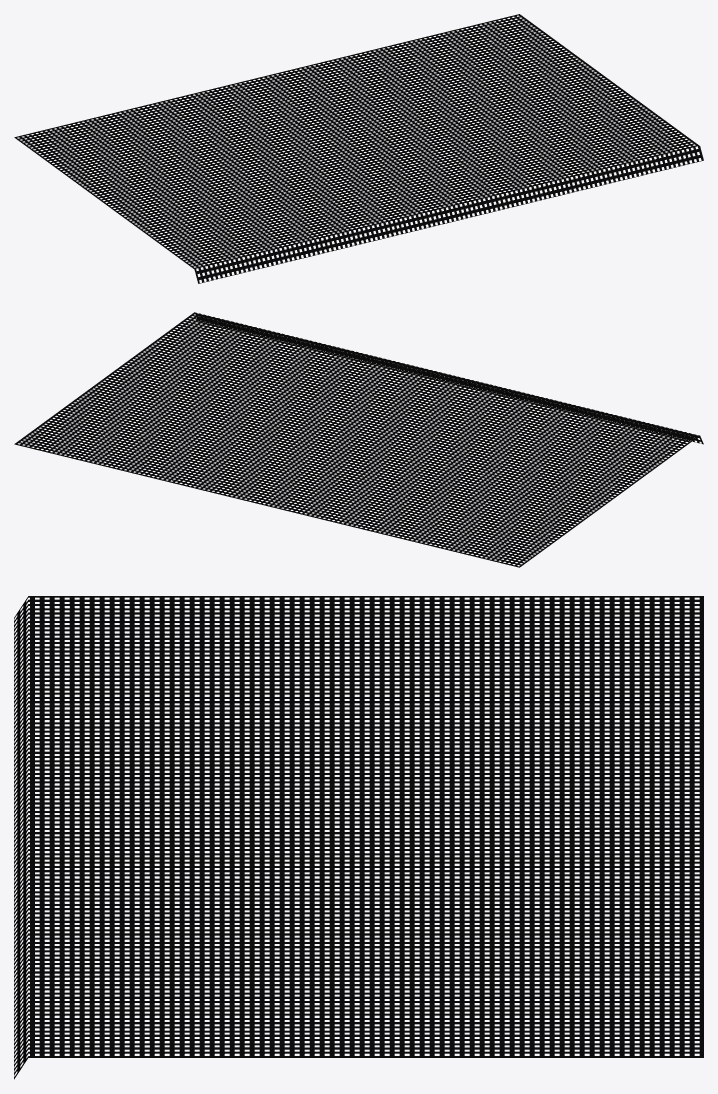
Rendered from Itr_Oven_Plane_01.FBX.
The picture shows the model from 3 angles, top to bottom: view 1: azimuth 30°, elevation 25°; view 2: azimuth 150°, elevation 25°; view 3: azimuth 270°, elevation 25°; orthographic projection. The views are drawn at different scales.
Visible parts, largest first — view 1: Itr_Oven_Plane_01; view 2: Itr_Oven_Plane_01; view 3: Itr_Oven_Plane_01.
Part boxes in pixels (x1,y1,x2,y2): Itr_Oven_Plane_01: (14,14,703,283); Itr_Oven_Plane_01: (14,312,703,567); Itr_Oven_Plane_01: (14,596,703,1079).
Size of the model in its own units: 40.57 by 0.8965 by 25.61.
